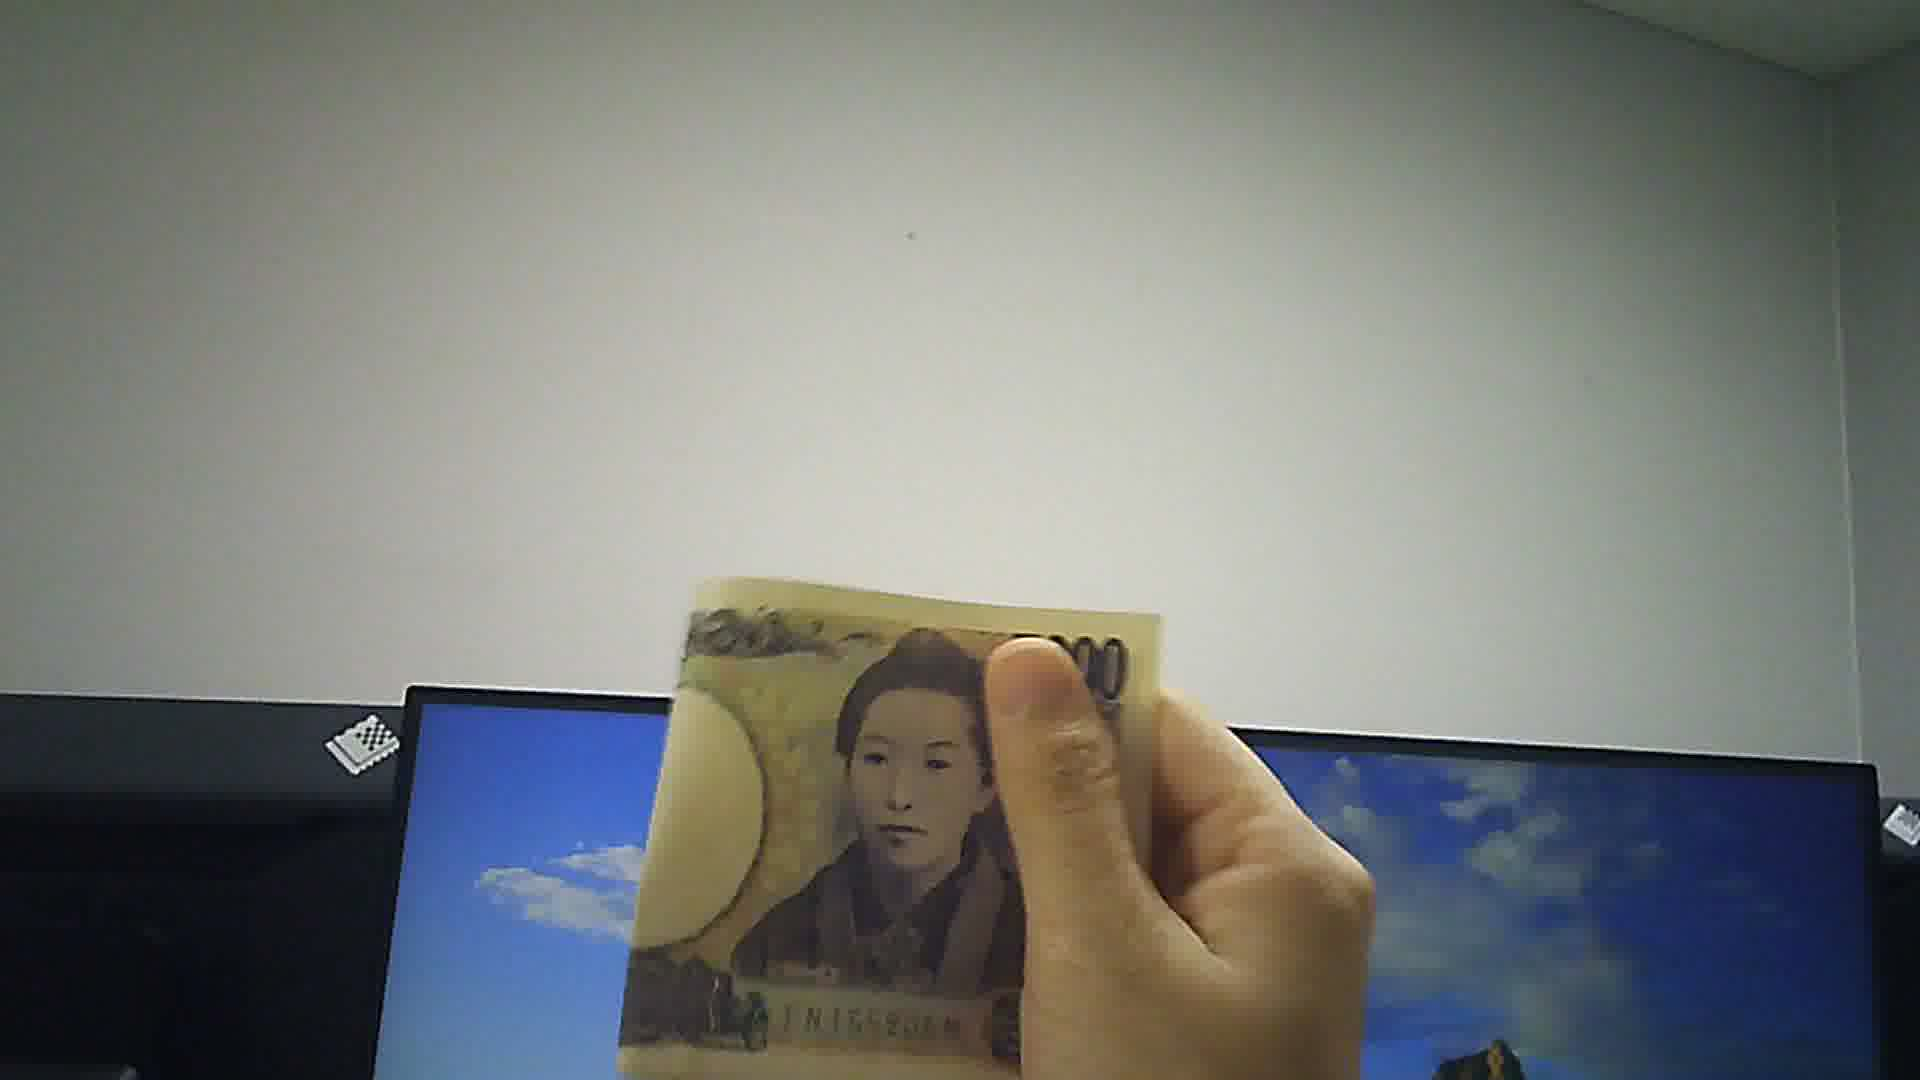5,000 Yen: (620, 563, 1174, 1069)
